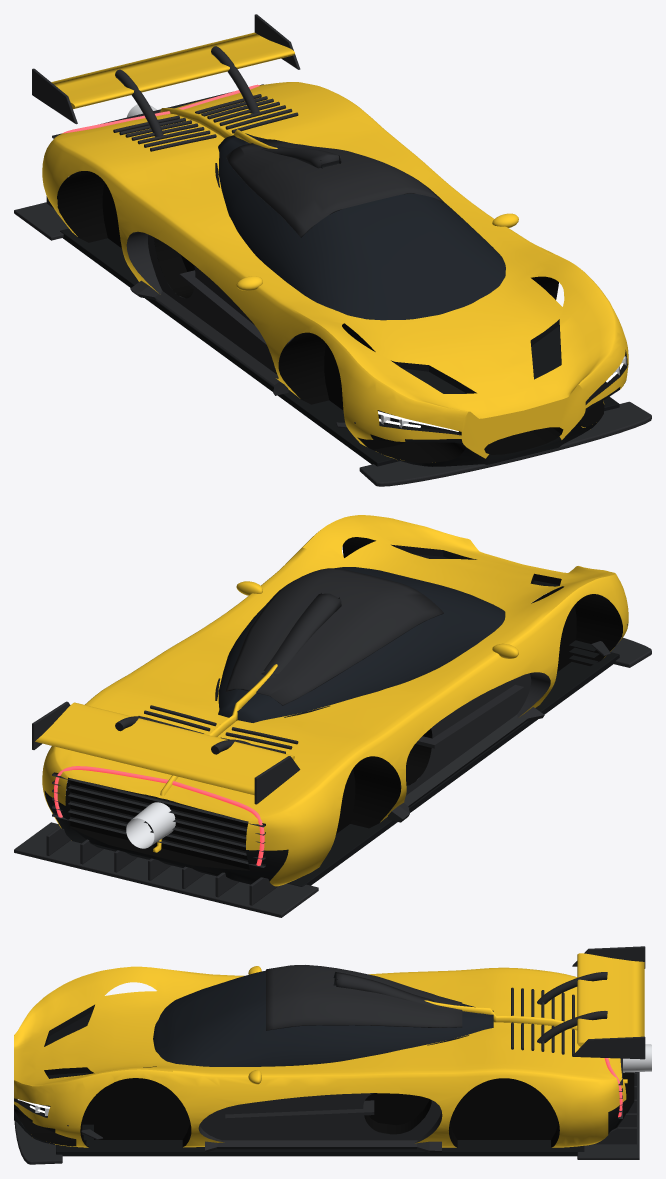
File: volcano_p1.glb
The picture shows the model from 3 angles, top to bottom: view 1: azimuth 30°, elevation 25°; view 2: azimuth 150°, elevation 25°; view 3: azimuth 270°, elevation 25°; orthographic projection. The views are drawn at different scales.
Parts seen in each view (by area): view 1: Body, Canopy, Roof, Wing, Floor, Splitter, Sill-1, Strake-1, DiffPlate, endplate-1, Snorkel, Fin (+3 smaller); view 2: Body, Roof, Canopy, Wing, DiffPlate, Floor, Sill-1, Snorkel, exh1, Strake-1, endplate-1, Fin (+10 smaller); view 3: Body, Canopy, Roof, Floor, Wing, Sill1, endplate1, Strake1, DiffPlate, Snorkel, Splitter, Fin (+5 smaller).
Part boxes in pixels (x1,y1,x2,y2): Body: [42, 82, 628, 466]; Canopy: [218, 133, 505, 343]; Roof: [226, 139, 443, 237]; Wing: [51, 32, 294, 109]; Floor: [60, 228, 619, 466]; Splitter: [359, 401, 651, 486]; Sill-1: [130, 280, 288, 395]; Strake-1: [179, 270, 293, 349]; DiffPlate: [14, 202, 68, 240]; endplate-1: [32, 68, 77, 124]; Snorkel: [261, 146, 341, 168]; Fin: [160, 108, 277, 148]; Body: [42, 515, 628, 886]; Roof: [226, 568, 443, 705]; Canopy: [218, 567, 505, 722]; Wing: [35, 702, 294, 795]; DiffPlate: [14, 822, 318, 917]; Floor: [60, 652, 619, 886]; Sill-1: [387, 707, 544, 822]; Snorkel: [261, 593, 341, 677]; exh1: [126, 802, 175, 848]; Strake-1: [415, 684, 524, 748]; endplate-1: [254, 756, 300, 804]; Fin: [153, 664, 277, 852]; Body: [14, 966, 634, 1147]; Canopy: [153, 970, 493, 1066]; Roof: [266, 965, 462, 1030]; Floor: [56, 1067, 584, 1156]; Wing: [577, 953, 644, 1046]; Sill1: [205, 1140, 441, 1152]; endplate1: [572, 1036, 645, 1059]; Strake1: [225, 1100, 374, 1120]; DiffPlate: [577, 1072, 639, 1159]; Snorkel: [336, 972, 439, 1007]; Splitter: [14, 1121, 62, 1164]; Fin: [424, 1000, 627, 1083].
Bounding box in the file's own units: 1.99 × 1.1 × 4.71.
